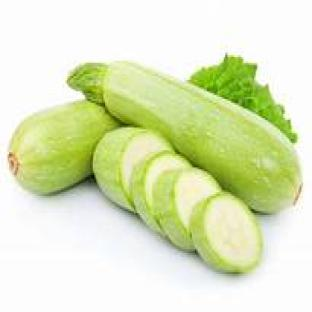Zucchini: (69, 63, 301, 213), (8, 101, 118, 194), (93, 128, 171, 211), (191, 193, 263, 272), (154, 168, 220, 251), (131, 151, 190, 235)
